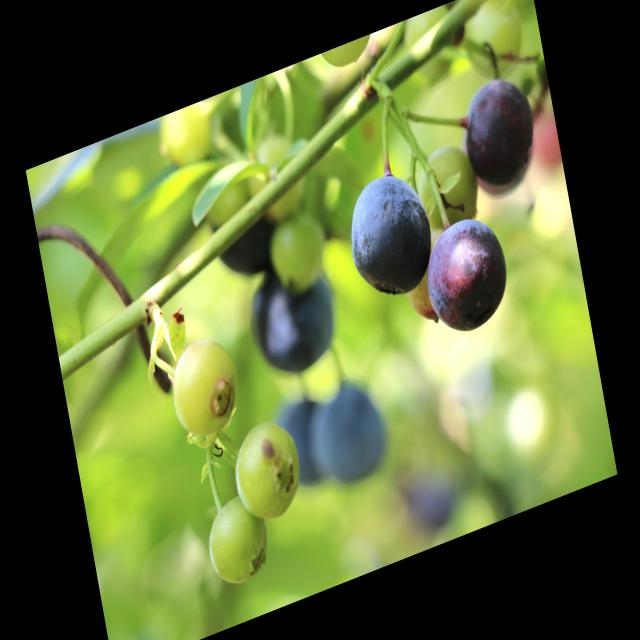blueberry: (338, 154, 442, 312), (242, 248, 350, 394), (416, 199, 518, 351), (454, 63, 544, 204), (300, 370, 394, 503), (259, 383, 337, 506), (206, 191, 291, 292)
blueberry-unripe: (165, 326, 248, 452), (226, 409, 309, 532), (200, 488, 272, 593), (416, 137, 481, 230)
